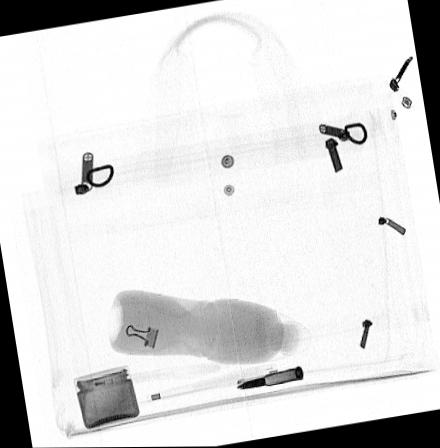Bullet: (232, 366, 304, 389)
